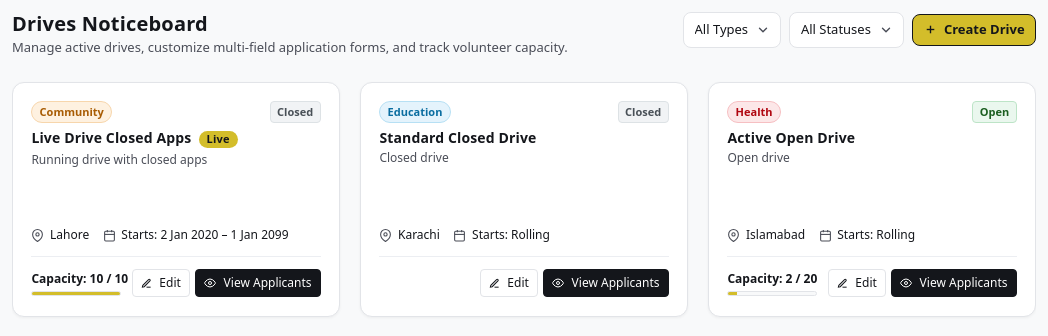
Test: YouthRepublicOpportunitiesPage › filters drives by Applications closed and shows Live pill on in-progress drives
The width and height of the screenshot is (1048, 336).
Expected: the text "Live Drive Closed Apps" is shown, left=31, top=129, right=191, bottom=147
Expected: the text "Live" is shown, left=198, top=131, right=238, bottom=148
# Select Applications closed status filter
Click the dropdown named "Filter by status": click(847, 30) left=790, top=12, right=904, bottom=48
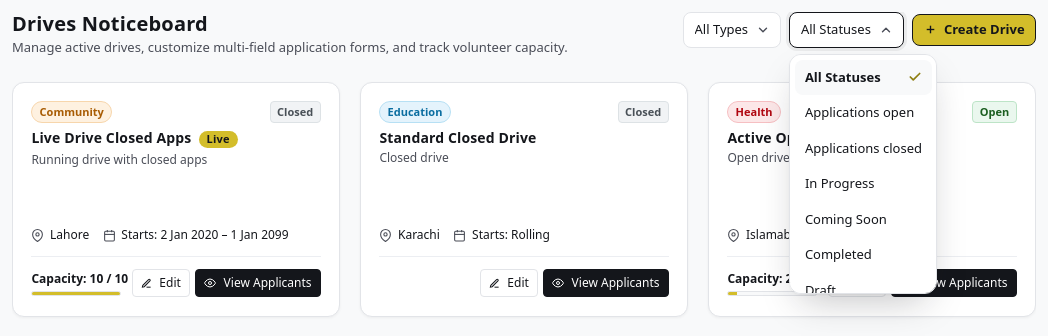
Click the option "Applications closed": click(863, 148) left=795, top=131, right=932, bottom=166
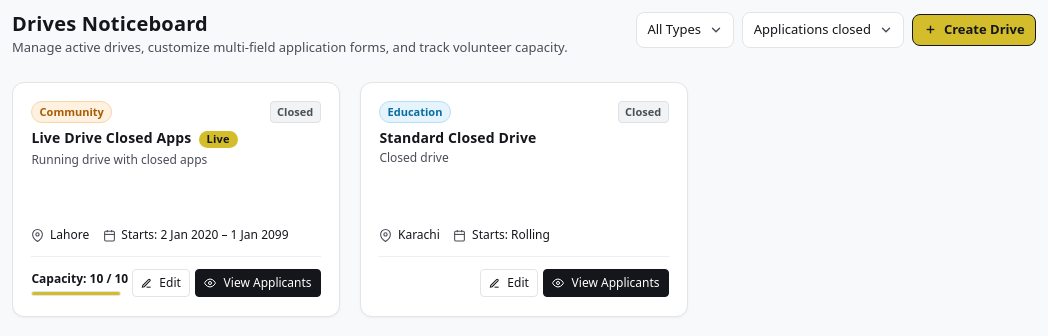
Expected: the text "Live Drive Closed Apps" is shown, left=31, top=129, right=191, bottom=147
Result: the text "Active Open Drive" is gone
